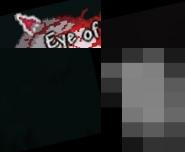eyeC: (0, 0, 101, 48)
slime: (101, 48, 185, 152)
